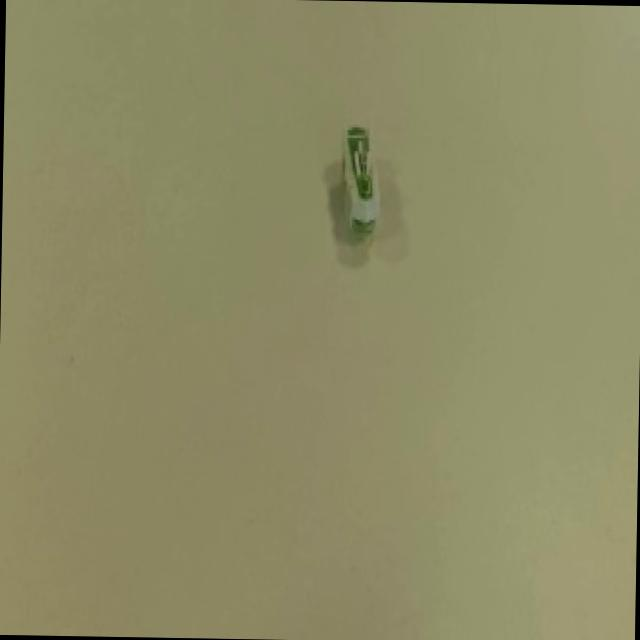4_NanoBug_Blanco: (308, 108, 420, 265)
